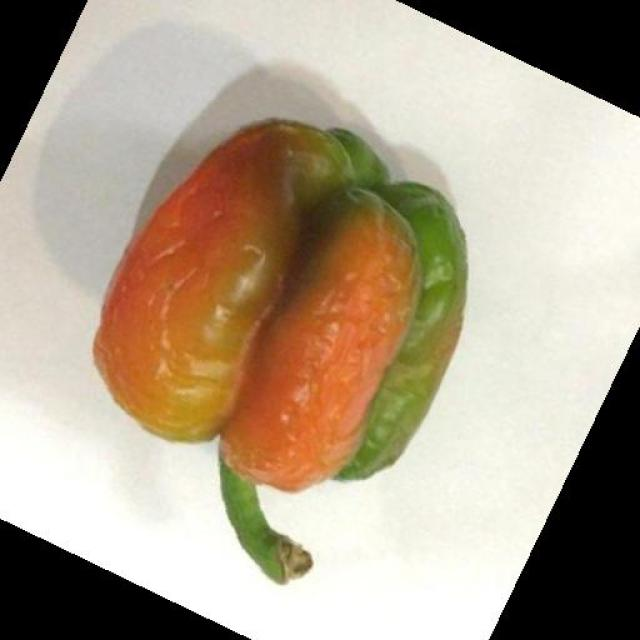Stale_Capsicum: (108, 113, 470, 448)
